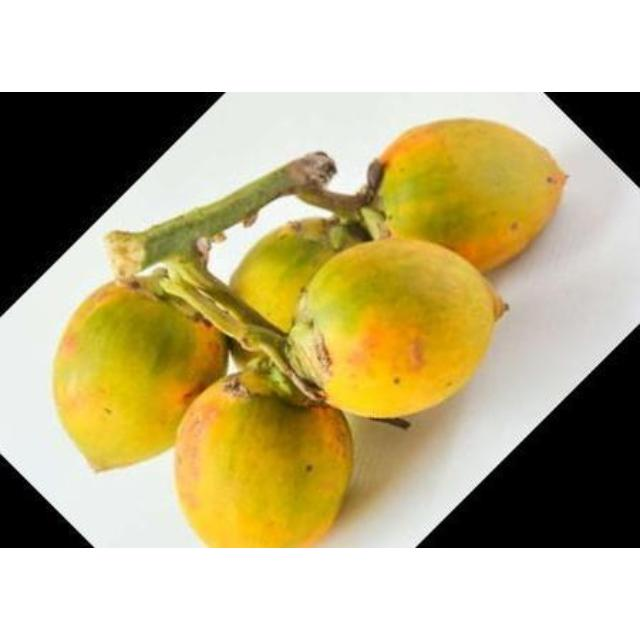good: (290, 237, 506, 422), (50, 281, 226, 475), (371, 118, 569, 275), (175, 381, 354, 547), (229, 220, 348, 332)
